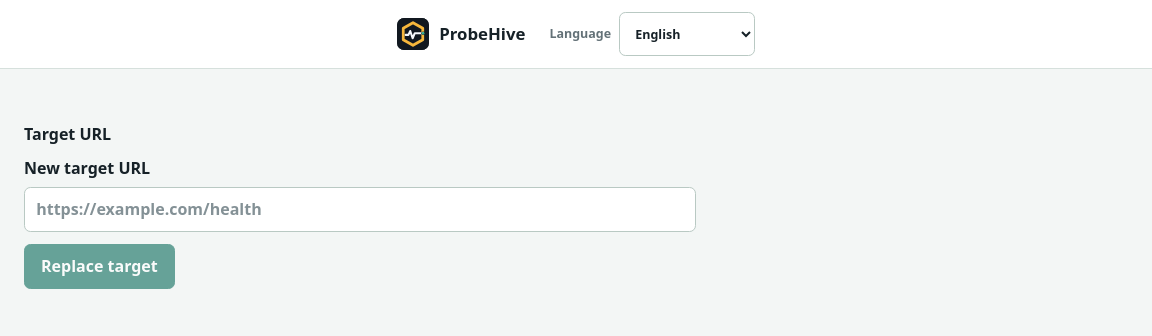
Test: localizes a rejected target from its stable field code
The width and height of the screenshot is (1152, 336).
Type "ftp://example.com" into the field labelled "New target URL" at (360, 209), box [24,187,696,232]
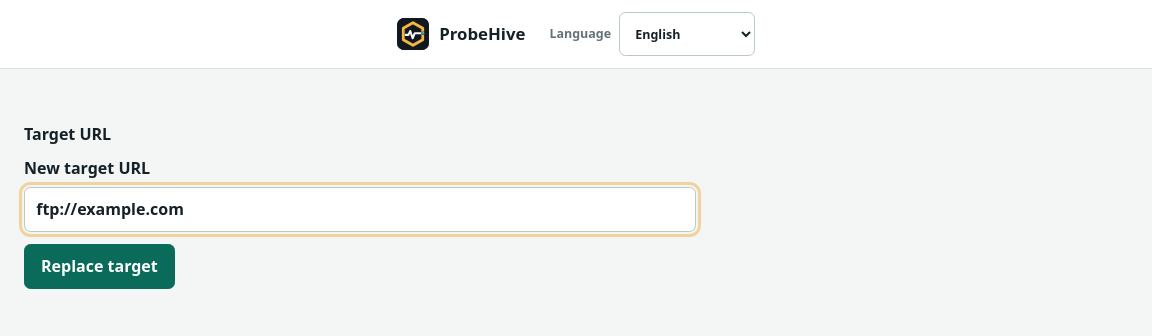
Click the button "Replace target" at (99, 266), box [24,244,175,289]
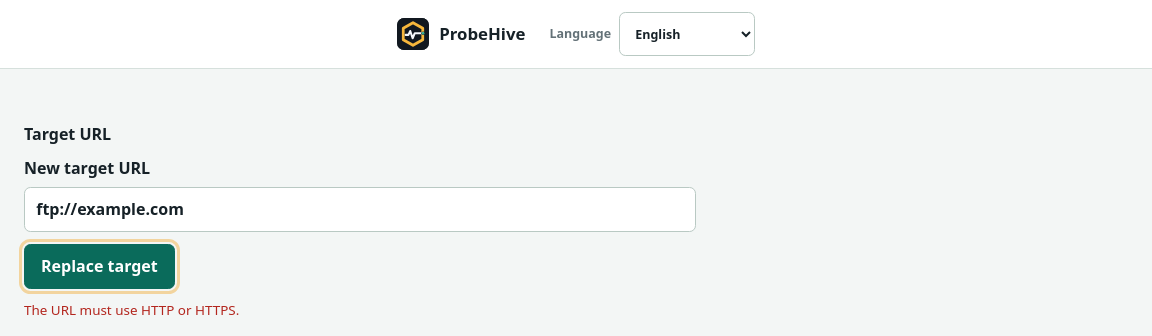
Check: the button "Replace target" is enabled, box [24,244,175,289]
Check: the list item "The URL must use HTTP or HTTPS." is shown, box [24,301,239,319]
